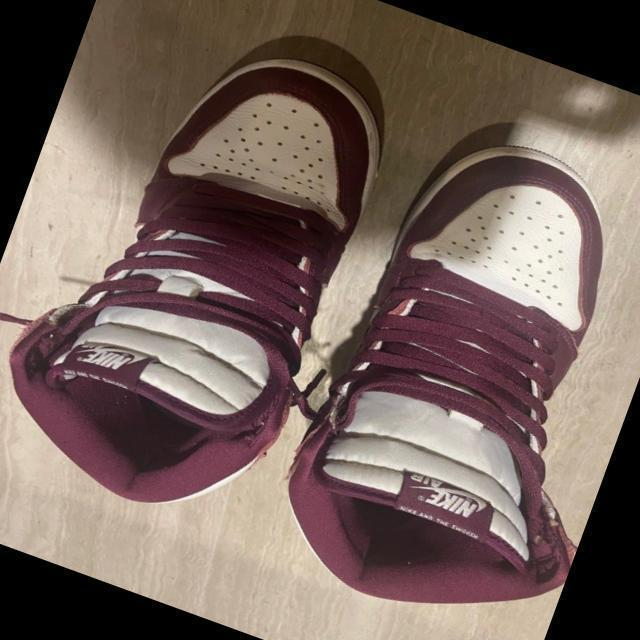nike original jordan 1: (0, 0, 413, 556), (256, 105, 640, 640)
